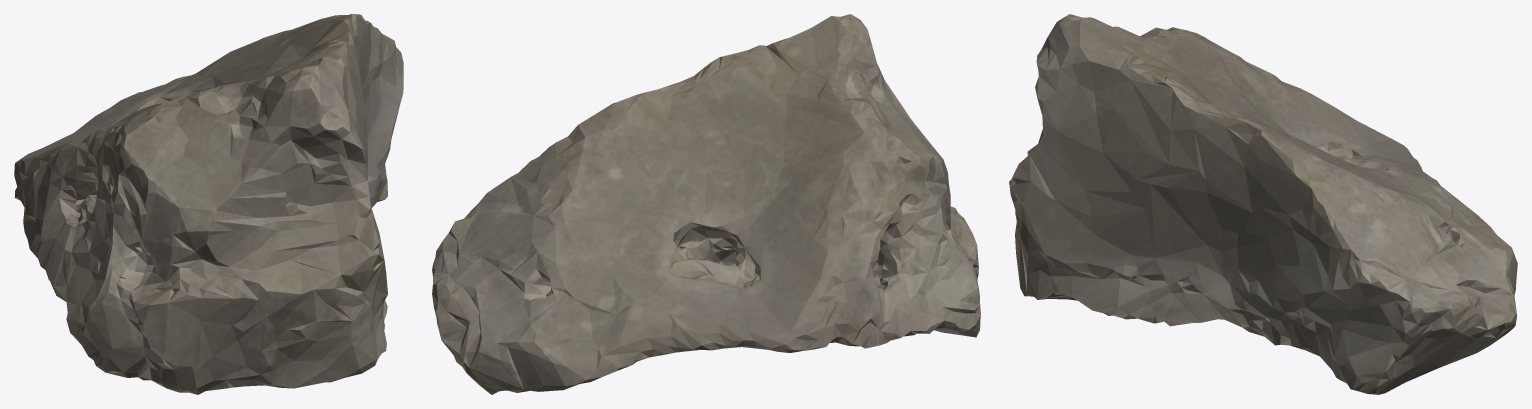
Rendered from moon_rock_06.glb.
The picture shows the model from 3 angles, left to right: view 1: azimuth 30°, elevation 25°; view 2: azimuth 150°, elevation 25°; view 3: azimuth 270°, elevation 25°; orthographic projection. The views are drawn at different scales.
Parts seen in each view (by area): view 1: moon_rock_06_LOD0; view 2: moon_rock_06_LOD0; view 3: moon_rock_06_LOD0.
Part boxes in pixels (bbox=[...]): moon_rock_06_LOD0: bbox=[14, 14, 403, 394]; moon_rock_06_LOD0: bbox=[432, 14, 980, 394]; moon_rock_06_LOD0: bbox=[1009, 14, 1517, 394].
Size of the model in its own units: 0.0857 by 0.055 by 0.0918.
1 material, 1 textured.
